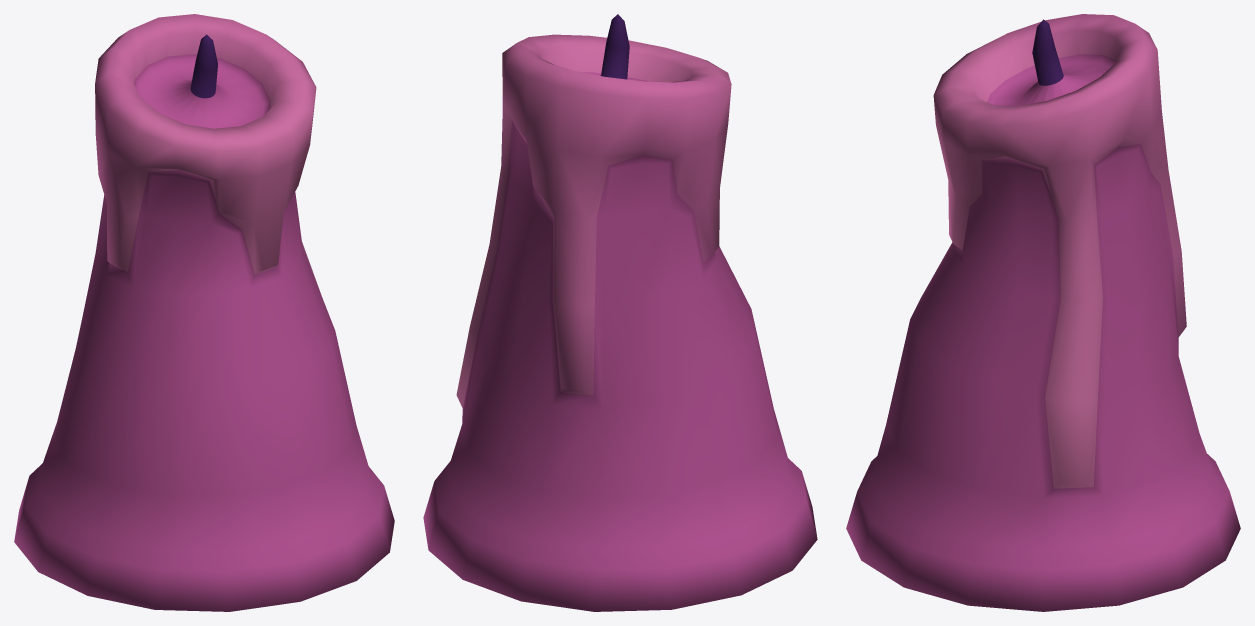
File: Candle_02.fbx
3 renders of one model, left to right at view 1: azimuth 30°, elevation 25°; view 2: azimuth 150°, elevation 25°; view 3: azimuth 270°, elevation 25°, orthographic. The views are drawn at different scales.
Visible parts, largest first — view 1: Candle_02; view 2: Candle_02; view 3: Candle_02.
Boxes of the visible parts, x1,y1,x2,y2 form: Candle_02: (14,14,394,611); Candle_02: (423,14,817,611); Candle_02: (846,14,1240,611).
Bounding box in the file's own units: 16.04 × 22.89 × 16.04.
